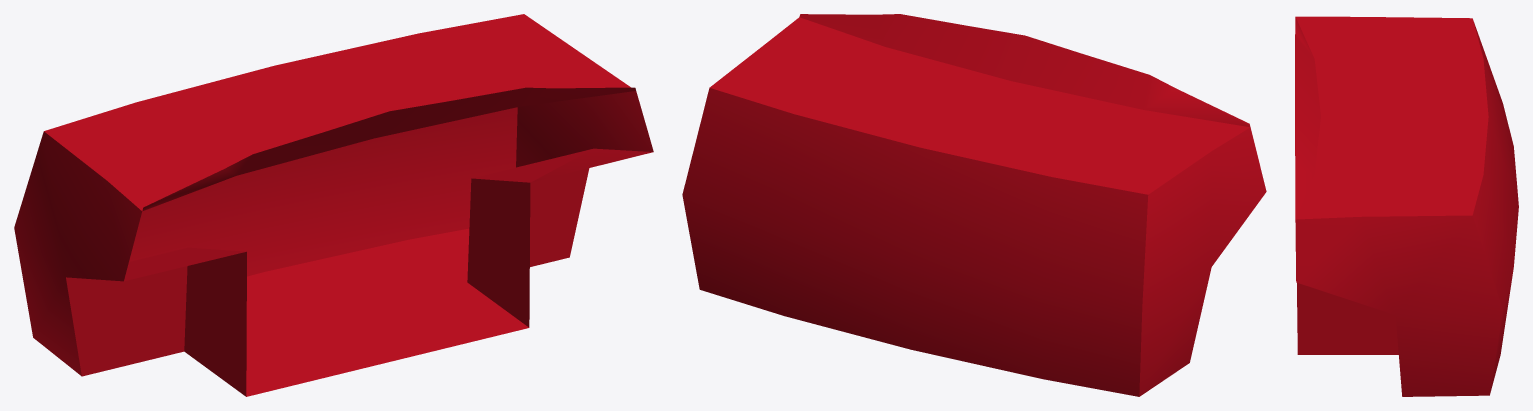
File: template_car_sedan_rear.dae
The picture shows the model from 3 angles, left to right: view 1: azimuth 30°, elevation 25°; view 2: azimuth 150°, elevation 25°; view 3: azimuth 270°, elevation 25°; orthographic projection. The views are drawn at different scales.
Parts seen in each view (by area): view 1: template_car_sedan_rear; view 2: template_car_sedan_rear; view 3: template_car_sedan_rear.
Part boxes in pixels (x1,y1,x2,y2): template_car_sedan_rear: (14,14,653,396); template_car_sedan_rear: (682,14,1266,396); template_car_sedan_rear: (1295,16,1518,396).
Bounding box in the file's own units: 1.71 × 0.743 × 0.7774.
